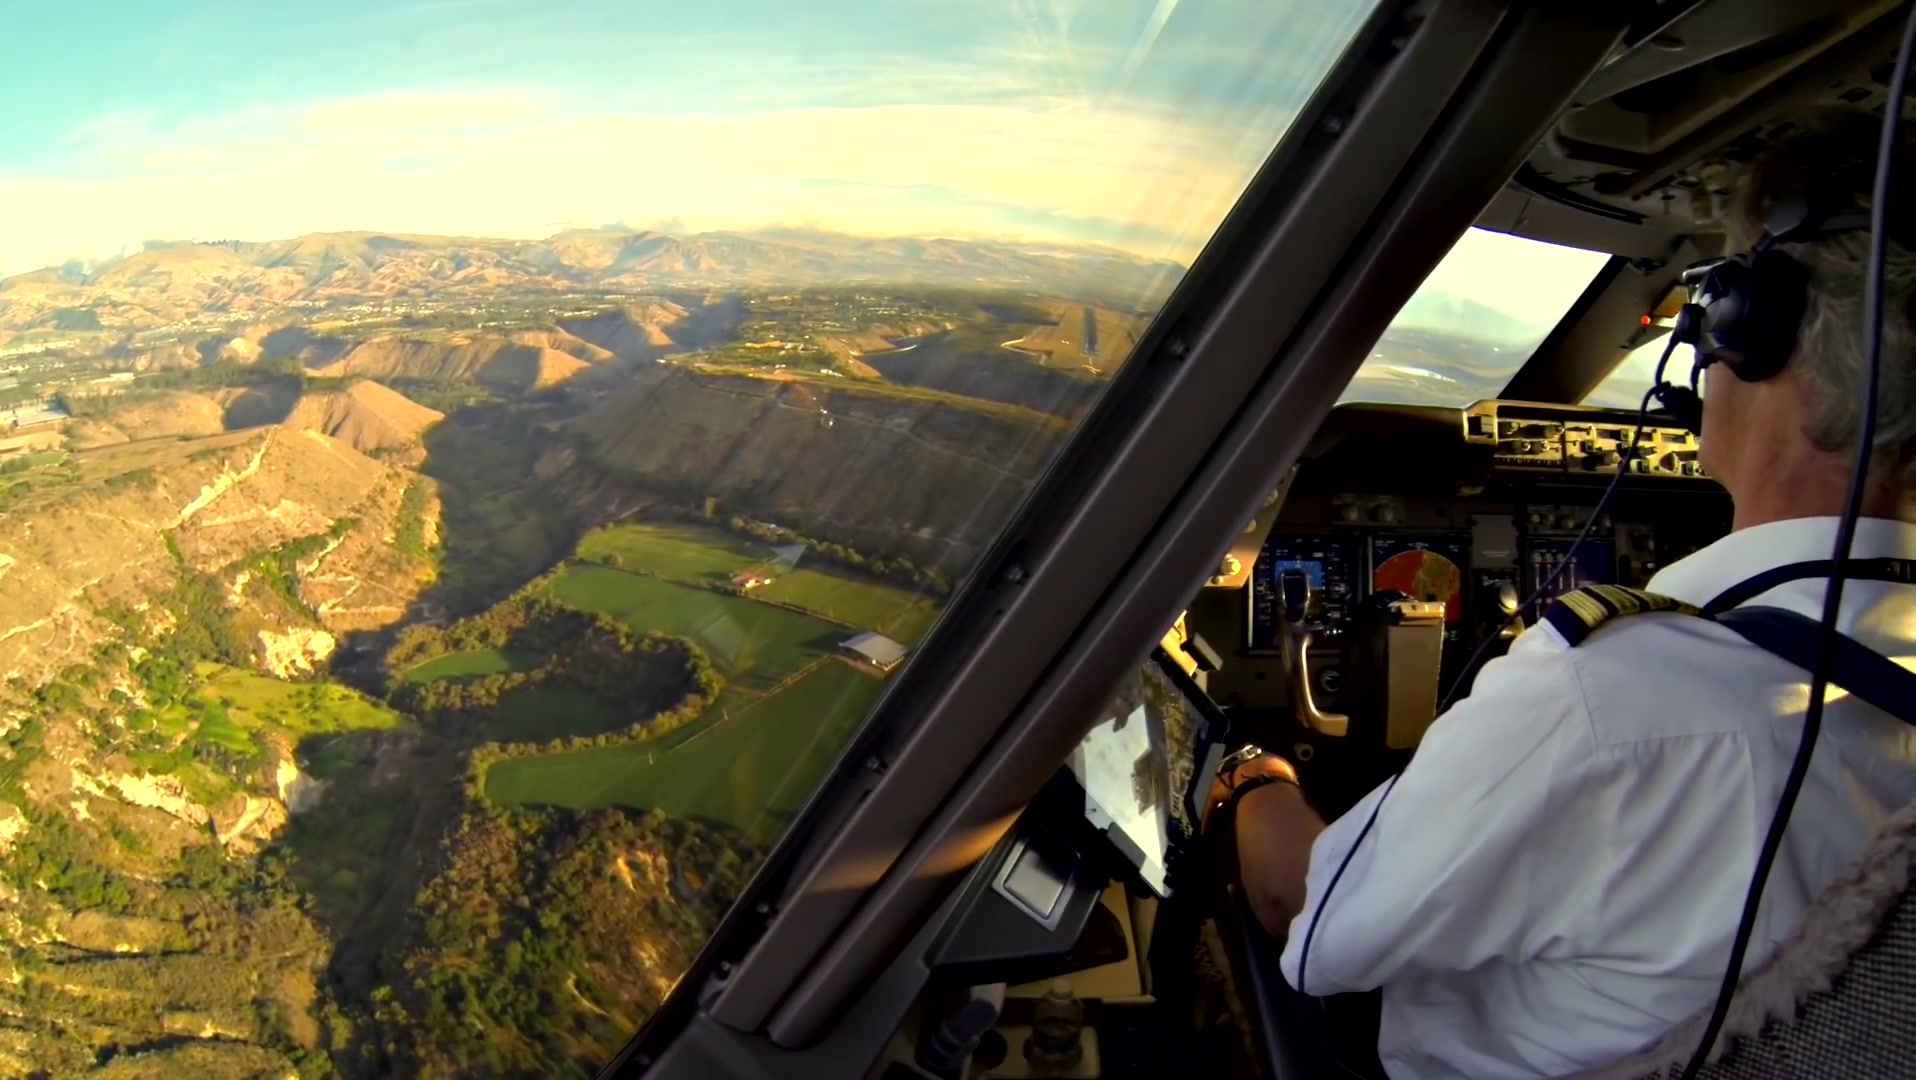runway: (1074, 307, 1104, 360)
